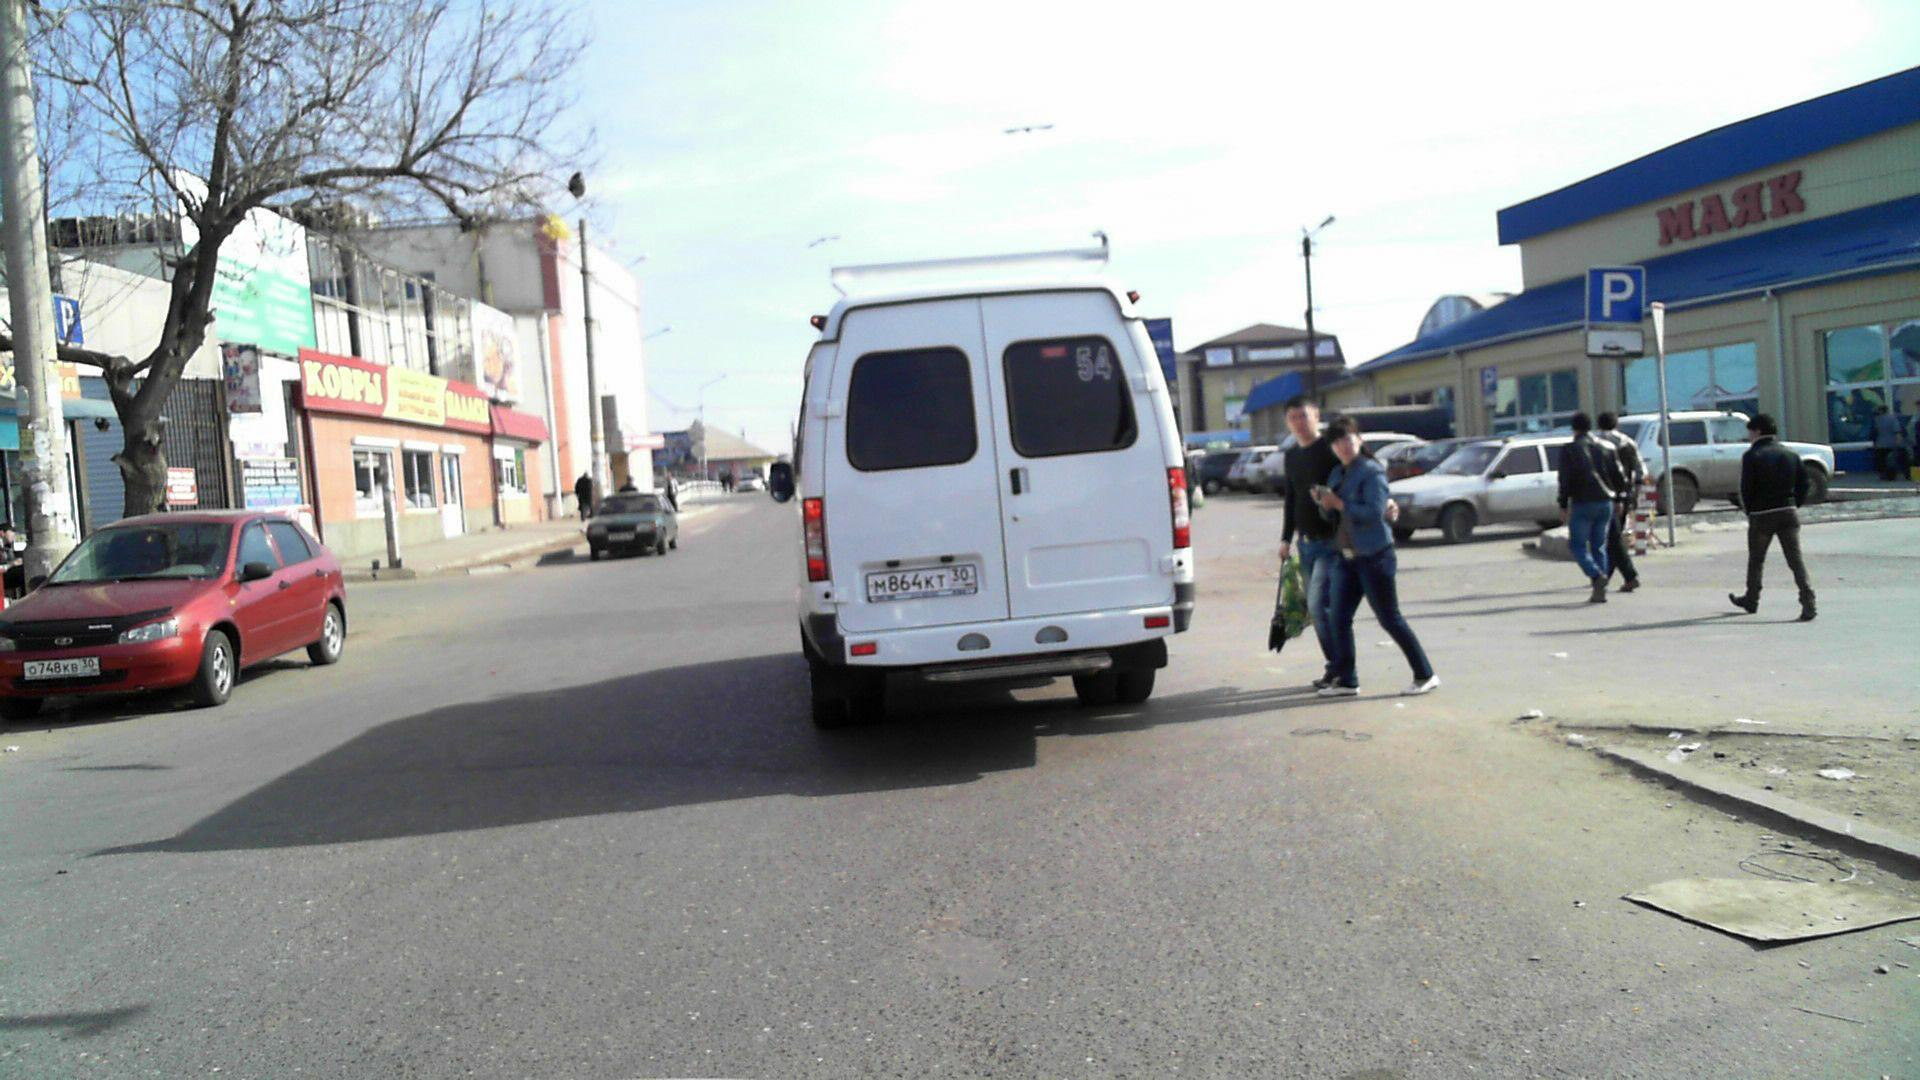6_4: (1584, 261, 1647, 326), (47, 290, 88, 345)
8_6_5: (1588, 328, 1646, 357)
